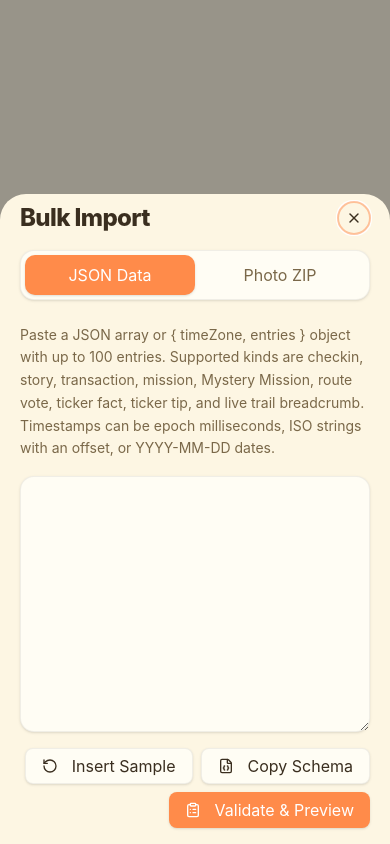
BulkImportSheet › inserts sample JSON when 'Insert Sample' is clicked
Click the button "Insert Sample" at [109, 766], box [25,748,193,784]
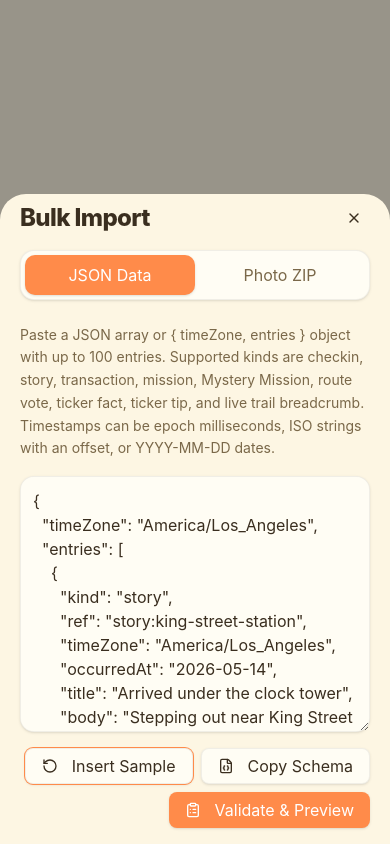
Check: the text box named "bulk import json" is not empty, box [20,476,370,732]
